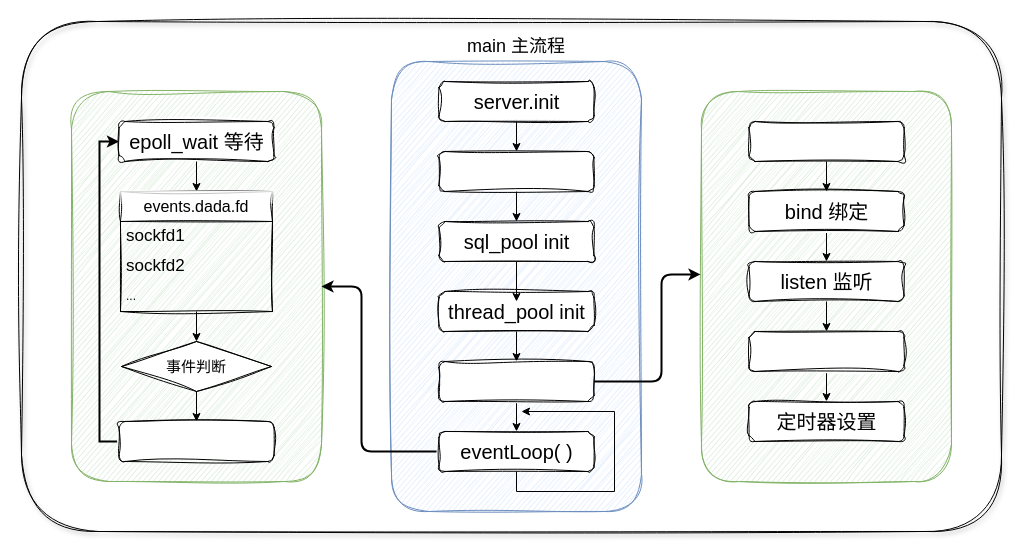
The diagram is 1025 pixels wide and 556 high, and some of its shapes have lost their labels. The centre of each missing label's shape, as x and y in pixels:
"epoll 注册" goes at (x=826, y=351).
"eventListen( )" goes at (x=516, y=381).
"log_write init" goes at (x=516, y=171).
"socket 创建" goes at (x=826, y=141).
"逻辑处理" goes at (x=196, y=441).
